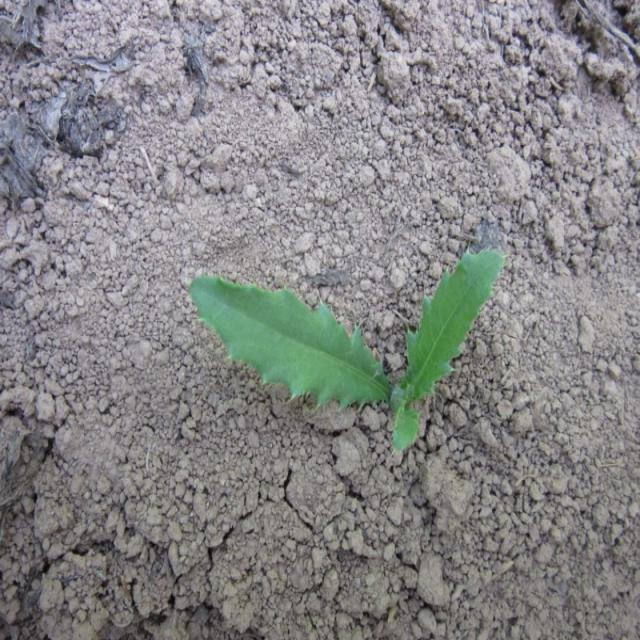field_thistle: (193, 232, 511, 502)
